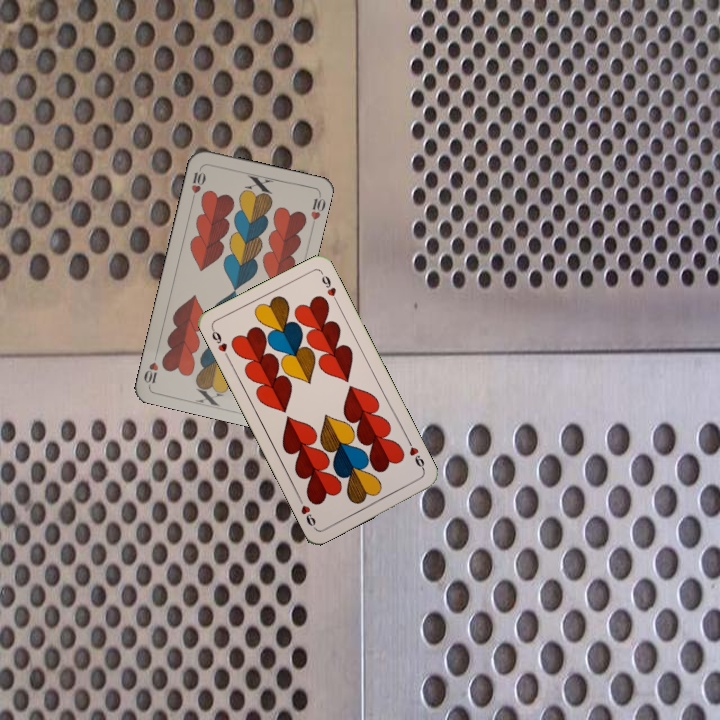H10: (187, 163, 208, 203)
H9: (208, 324, 232, 362), (404, 436, 428, 474)
